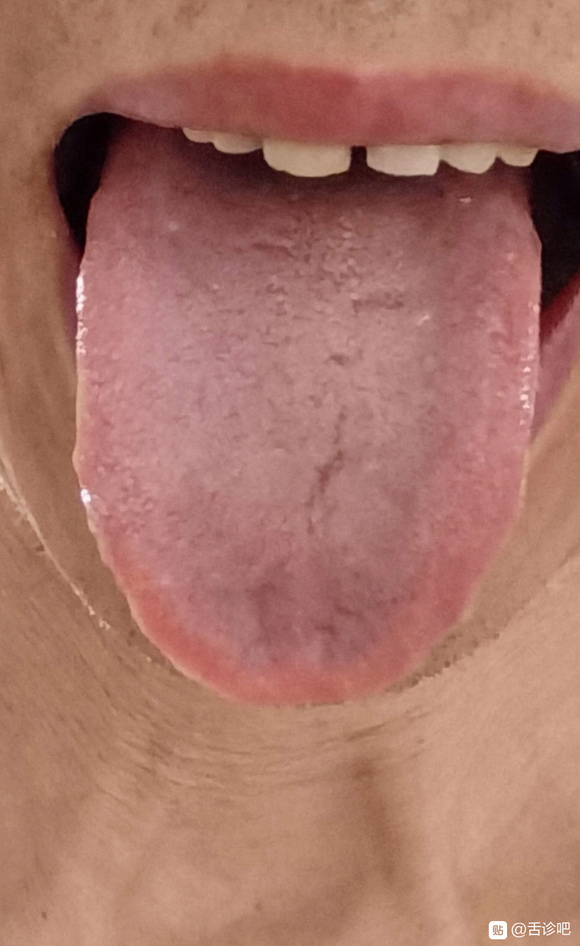baitaishe: (75, 119, 542, 709)
liewenshe: (288, 398, 356, 541)
